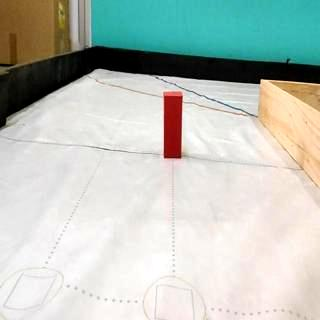redbox: (163, 90, 182, 158)
